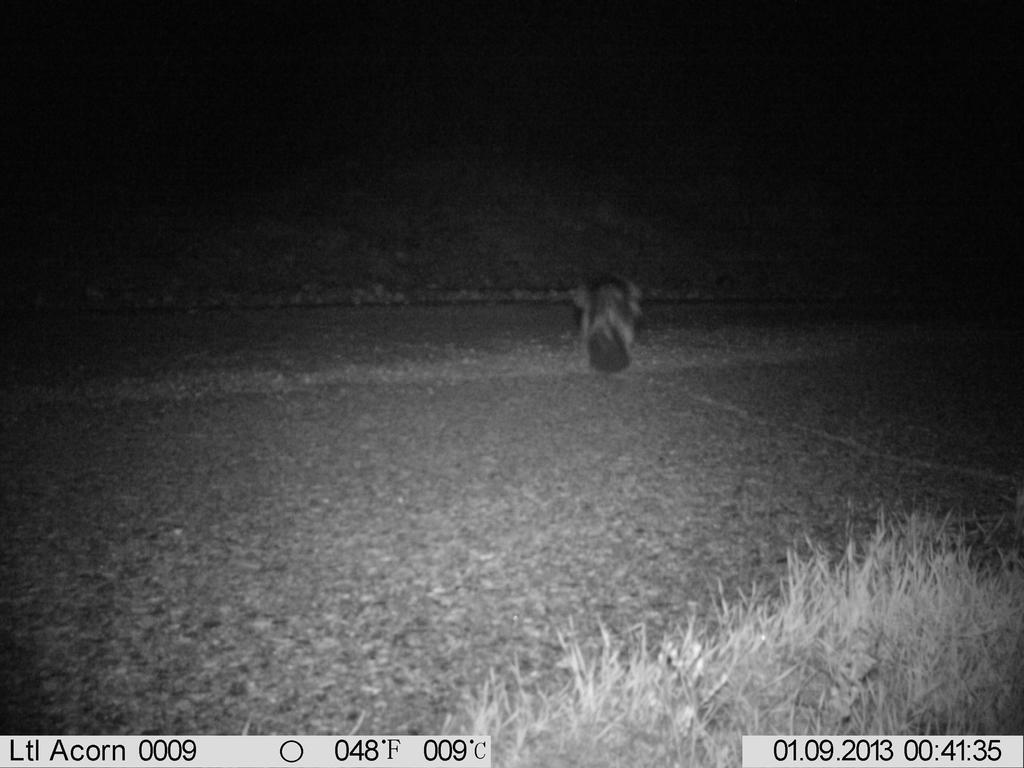skunk: (570, 264, 653, 378)
